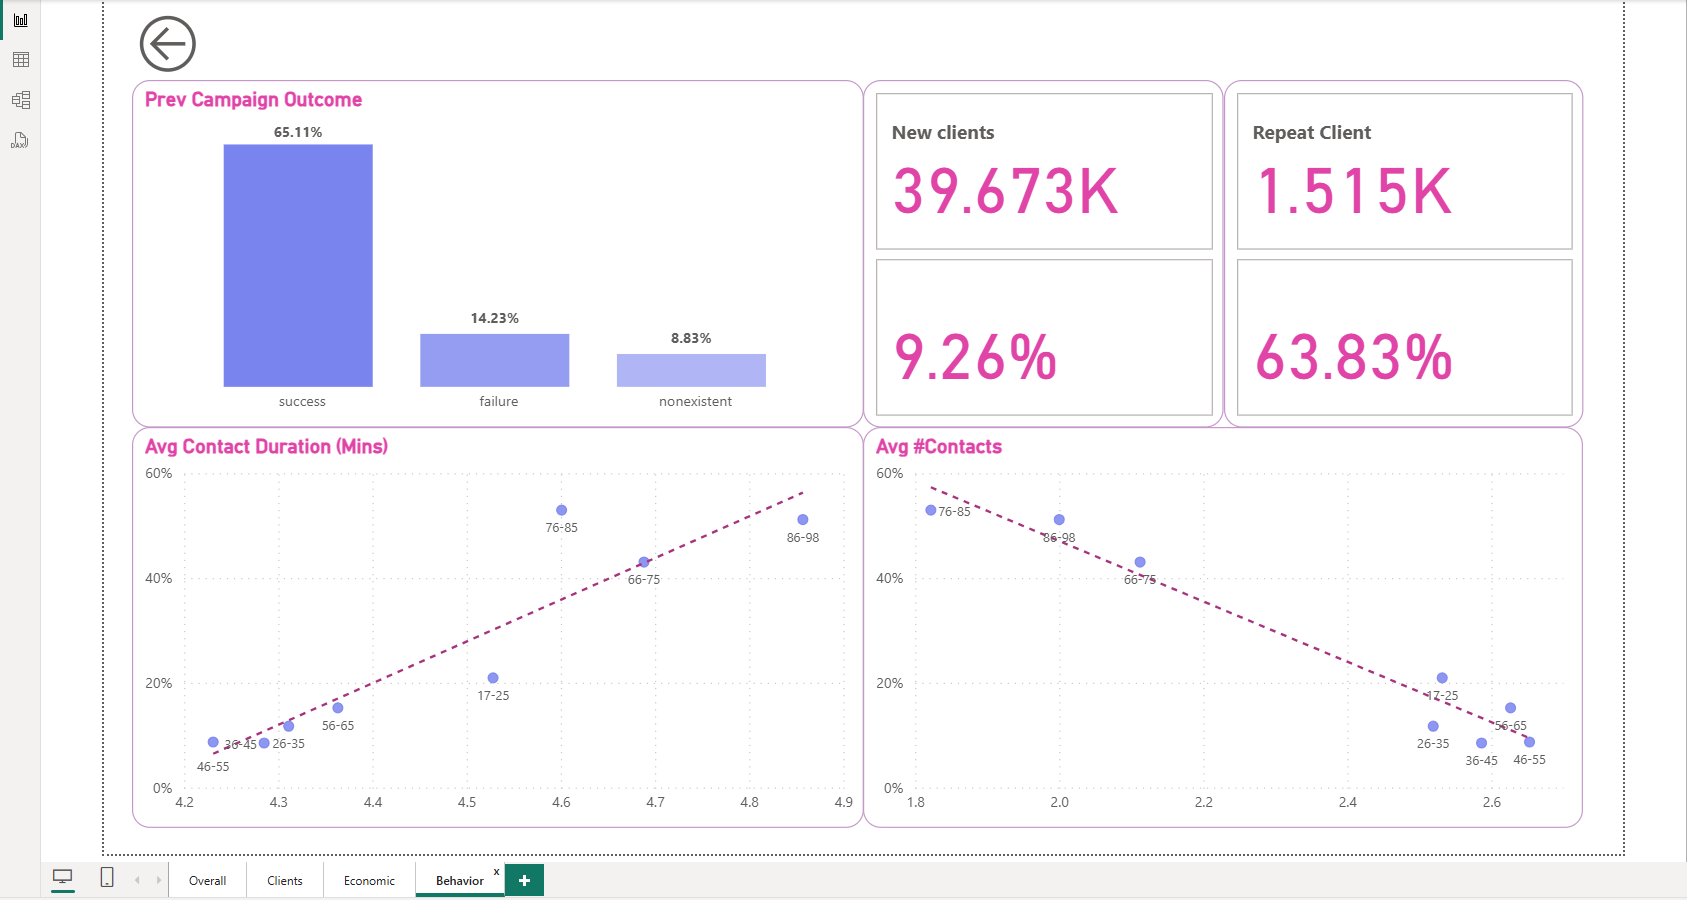

This screenshot's page, from the dashboard's own definition file:
{"tool":"powerbi","page":{"name":"Behavior","canvas":[1280,720],"ordinal":3},"visuals":[{"type":"scatterChart","title":"Avg Contact Duration (Mins)","fields":{"X":["Avg(bank-additional-full.LastContactDuration (Minutes))"],"Y":["Facts.%Subcribers"],"Category":["bank-additional-full.Age (groups)"]},"box":[23.2,360.1,616.8,338],"z":0},{"type":"scatterChart","title":"Avg #Contacts","fields":{"X":["Avg(bank-additional-full.NumberContacts)"],"Y":["Facts.%Subcribers"],"Category":["bank-additional-full.Age (groups)"]},"box":[640,360.1,607.5,338],"z":1000},{"type":"columnChart","title":"Prev Campaign Outcome","fields":{"Category":["bank-additional-full.OutcomePreviousCampaign"],"Y":["Facts.%Subcribers"]},"box":[23.2,67.4,616.8,292.7],"z":2000},{"type":"actionButton","box":[23.2,7,69.7,60.4],"z":4000},{"type":"cardVisual","fields":{"Data":["Facts.New clients","Facts.Conversion rate's new clients"]},"box":[640,67.4,304.3,292.7],"z":5000},{"type":"cardVisual","fields":{"Data":["Facts.Repeat Client","Facts.Conversion rate's repeat clients"]},"box":[944.3,67.4,303.2,292.7],"z":6000}]}

Visuals, with their boxes on the page's 1280x720 design canvas (x1, y1, x2, y2). These are canvas units, not pixel positions in the 1687x900 screenshot, which may show the page scaled, cropped or inside an application window:
"Avg Contact Duration (Mins)" scatterChart: 23/360/640/698
"Avg #Contacts" scatterChart: 640/360/1248/698
"Prev Campaign Outcome" columnChart: 23/67/640/360
actionButton: 23/7/93/67
cardVisual - Facts.New clients x Facts.Conversion rate's new clients: 640/67/944/360
cardVisual - Facts.Repeat Client x Facts.Conversion rate's repeat clients: 944/67/1248/360
